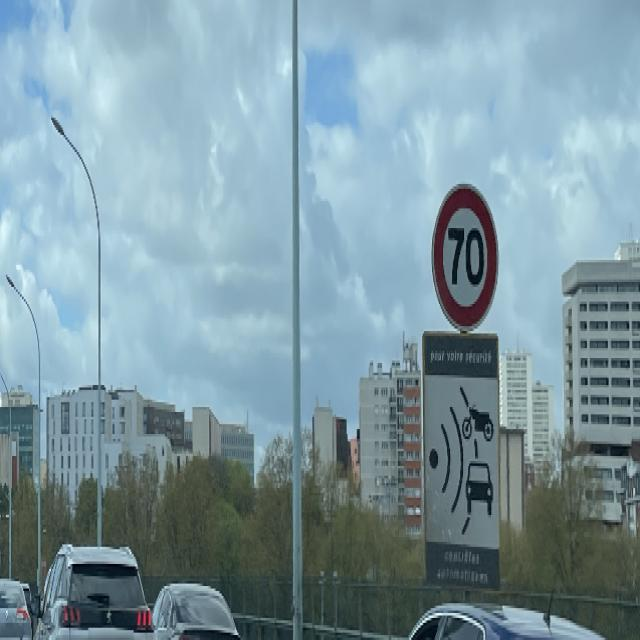speed_70: (430, 181, 500, 332)
